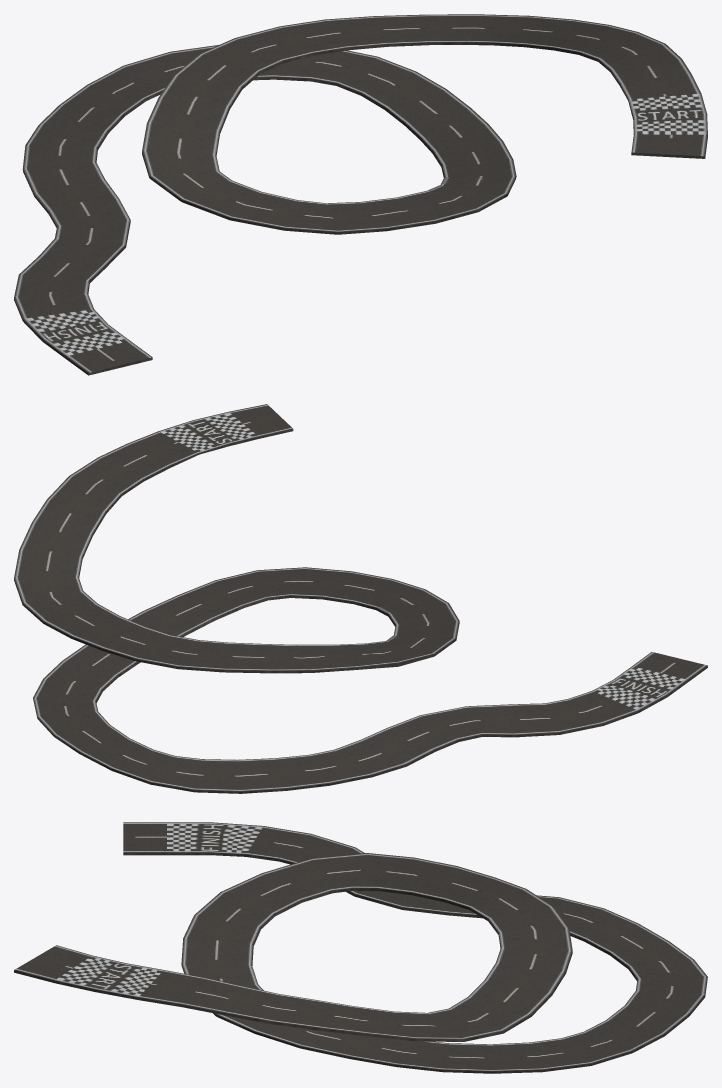
Rendered from TrackLevel002.FBX.
3 renders of one model, top to bottom at view 1: azimuth 30°, elevation 25°; view 2: azimuth 150°, elevation 25°; view 3: azimuth 270°, elevation 25°, orthographic. The views are drawn at different scales.
Parts seen in each view (by area): view 1: Track002; view 2: Track002; view 3: Track002.
Part boxes in pixels (box(x1,y1,x2,y2)): Track002: box(14, 14, 707, 375); Track002: box(14, 404, 707, 793); Track002: box(14, 822, 707, 1073).
Size of the model in its own units: 2027 by 378 by 1920.
